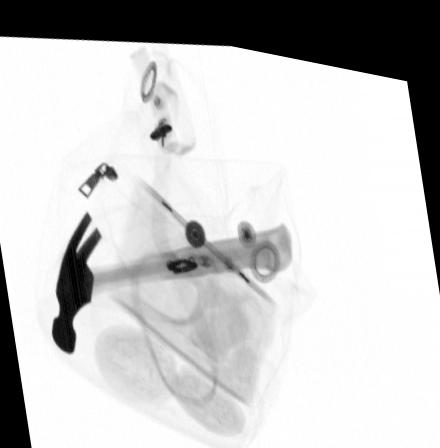Hammer: (51, 205, 292, 352)
